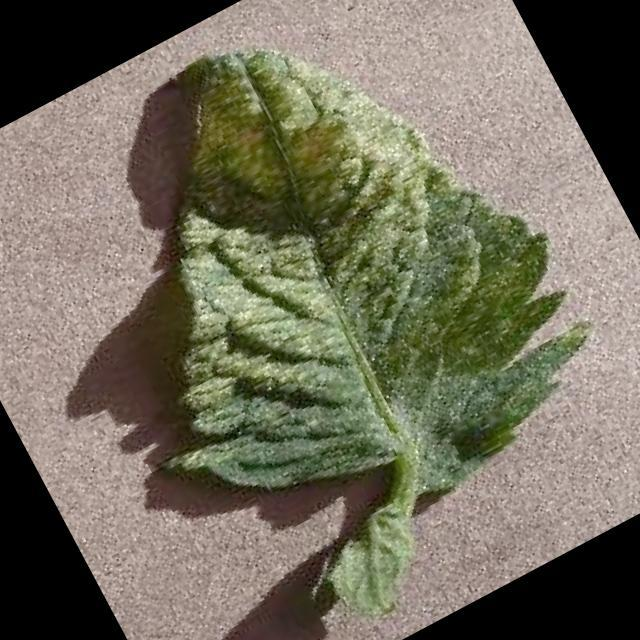Tomato spider mites leaf: (11, 0, 633, 598)
